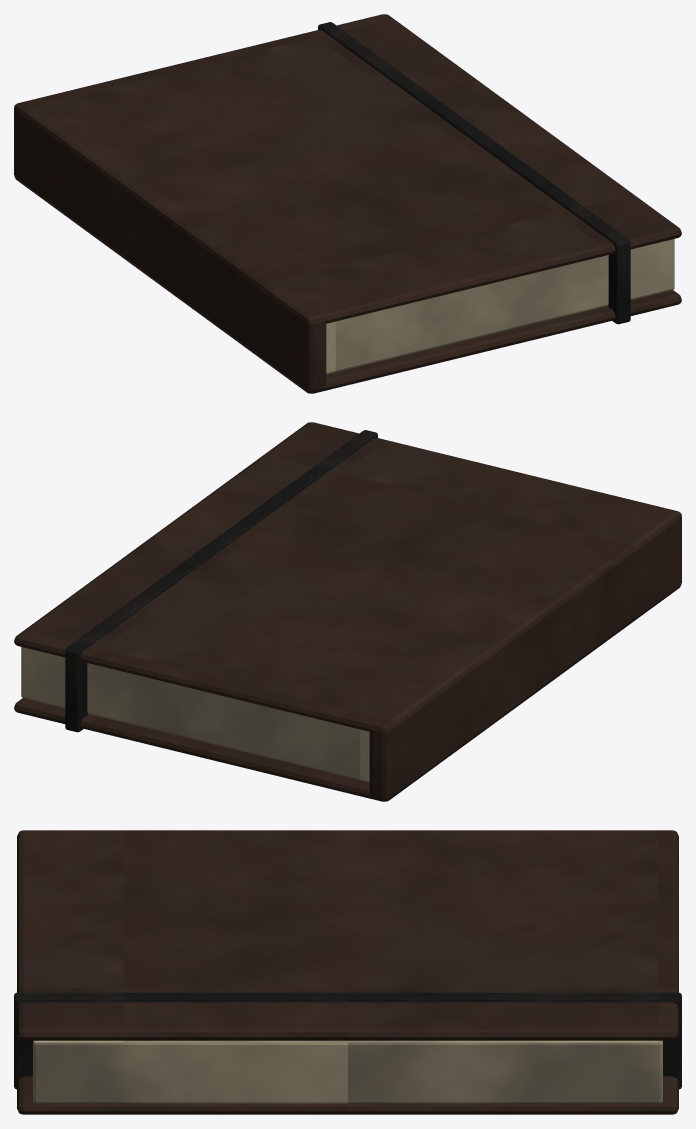
The model's file is G05_diary.glb.
3 views of the same model, one above another, from view 1: azimuth 30°, elevation 25°; view 2: azimuth 150°, elevation 25°; view 3: azimuth 270°, elevation 25° (orthographic). The views are drawn at different scales.
Parts seen in each view (by area): view 1: G05_diary; view 2: G05_diary; view 3: G05_diary.
Part boxes in pixels (x1,y1,x2,y2): G05_diary: (14, 14, 681, 393); G05_diary: (14, 422, 681, 801); G05_diary: (14, 830, 681, 1114).
Size of the model in its own units: 0.1443 by 0.0302 by 0.2.
Materials: 3 (3 with a texture image).
